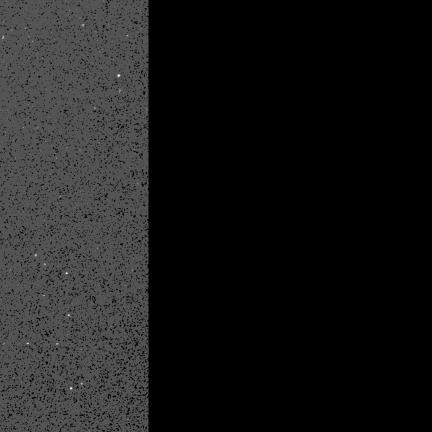blob: (117, 74, 121, 78), (65, 272, 68, 275), (70, 387, 73, 390), (35, 254, 37, 257)
